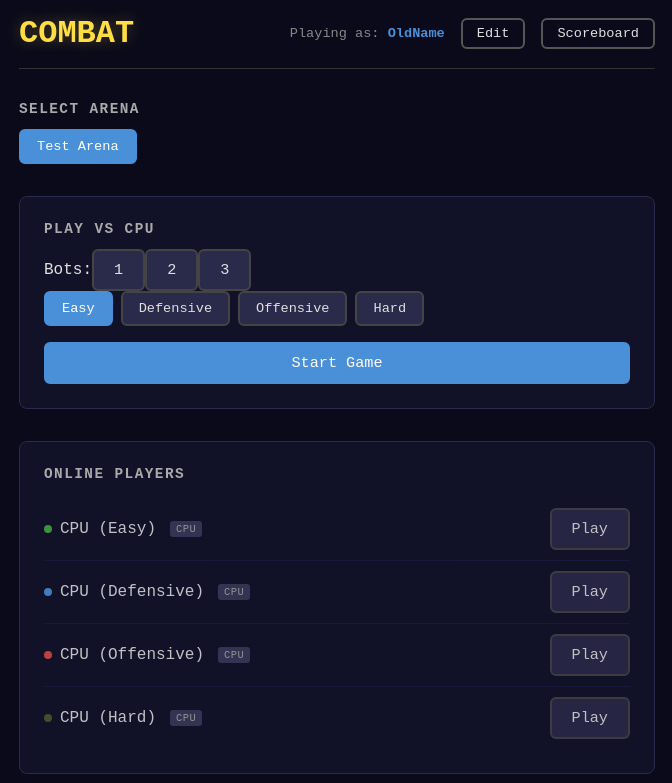
LobbyPage › submitting a new name updates the displayed name
Click Edit
Click the button "Edit" at (493,34), box [461,18,525,49]
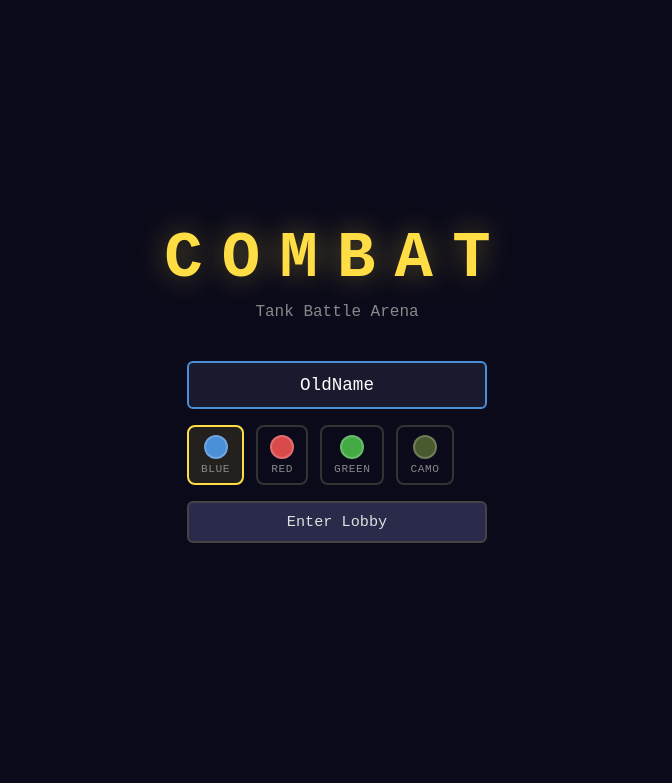
Clear and type new name
Replace the text in the field with placeholder "Enter your name" with "NewName" at (337,385), box [187,361,487,409]
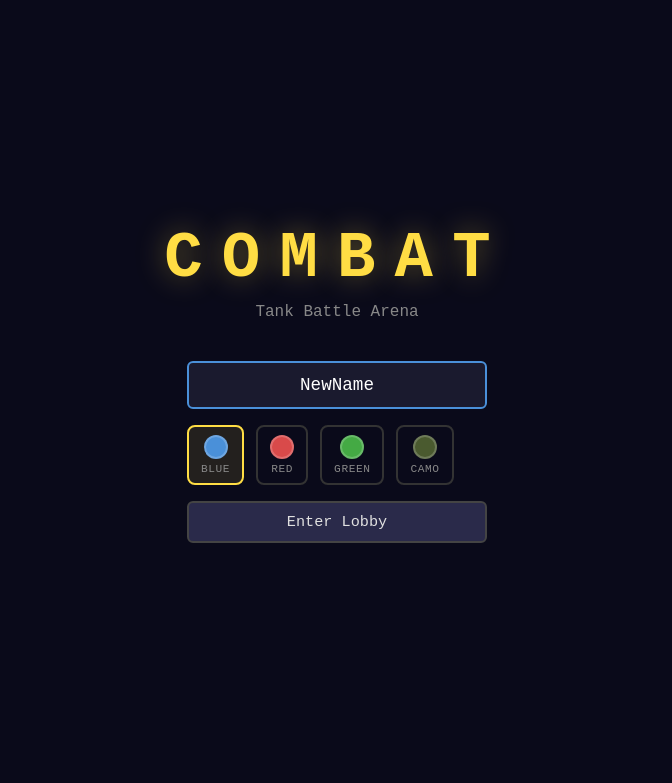
Click the button "Enter Lobby" at (337,522), box [187,501,487,543]
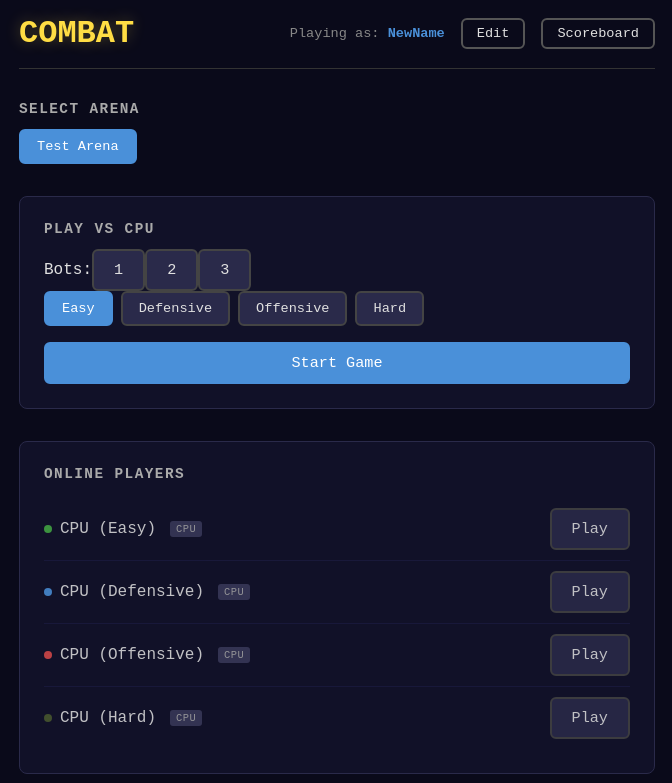
Now the text "NewName" is shown, box [388,26,445,41]
